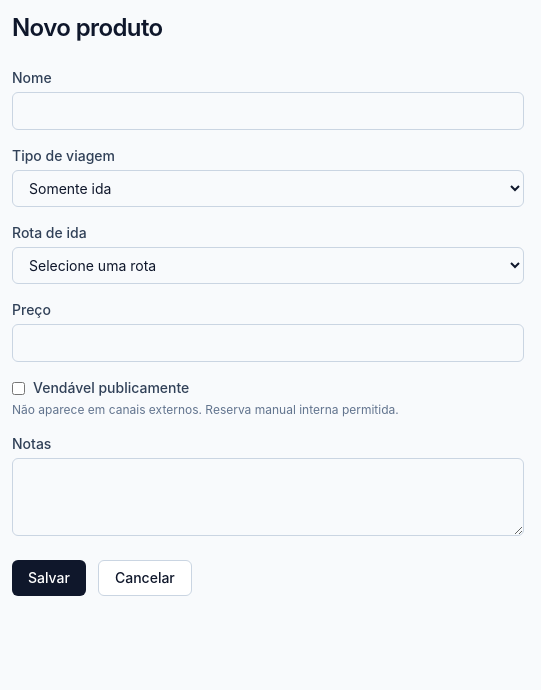
Test: TransportProductFormPage › shows the return-route field only after selecting ROUND_TRIP, and hides it again for ONE_WAY
The width and height of the screenshot is (541, 690).
Select "Ida e volta" in the dropdown labelled "Tipo de viagem". click: (268, 188)
box: [12,170,524,207]
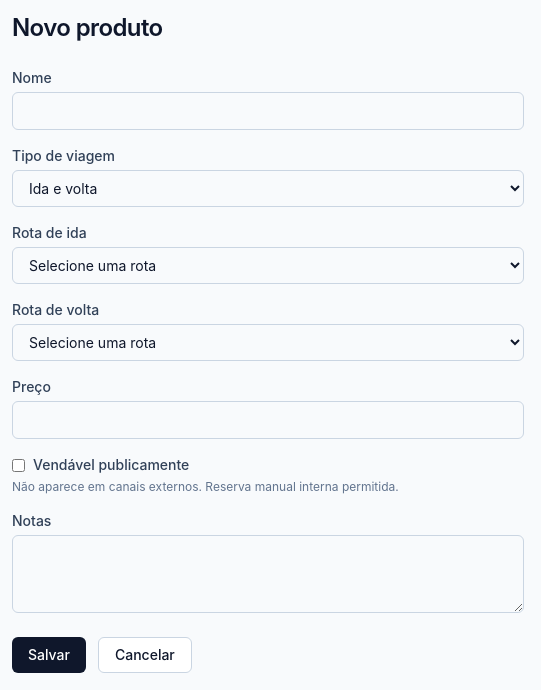
expect the element with test id "return-route-field" is shown: met, box [12,300,524,361]
Select "Somente ida" in the dropdown labelled "Tipo de viagem". click: (268, 188)
box: [12,170,524,207]
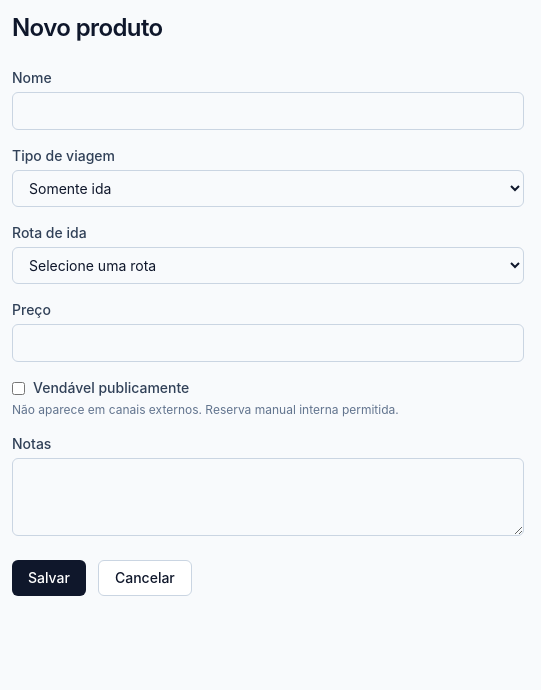
expect the element with test id "return-route-field" is gone: met
